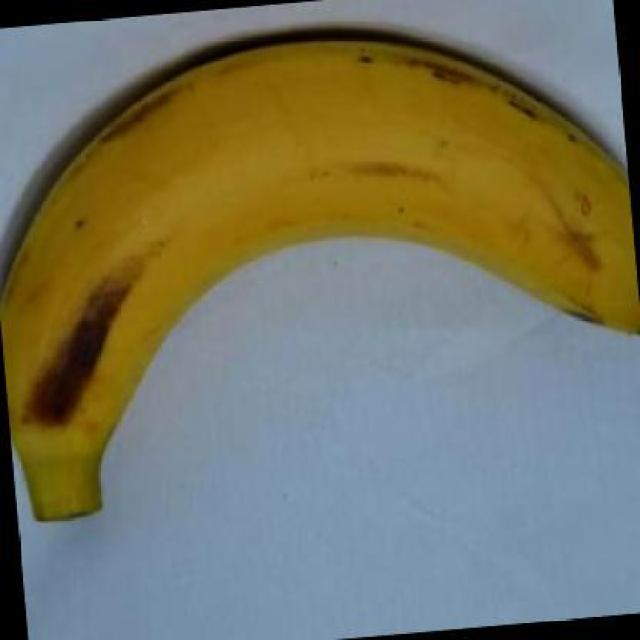ripe: (0, 29, 640, 534)
